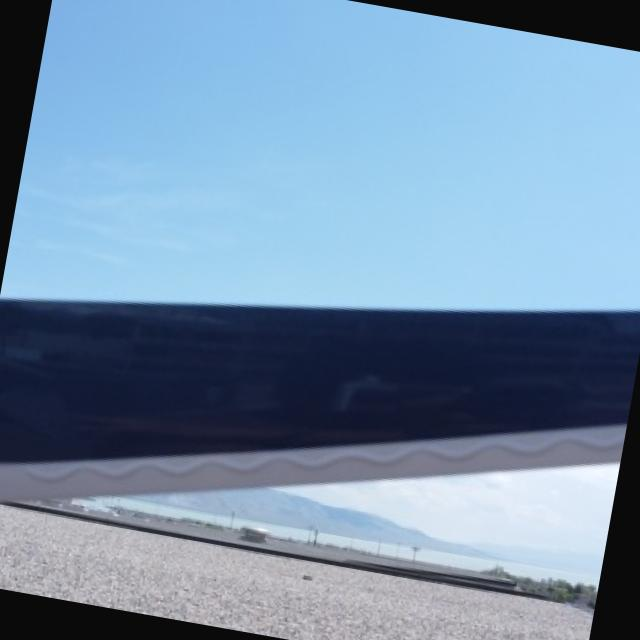healthy: (0, 296, 640, 497)
